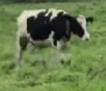cow: (16, 8, 94, 68)
